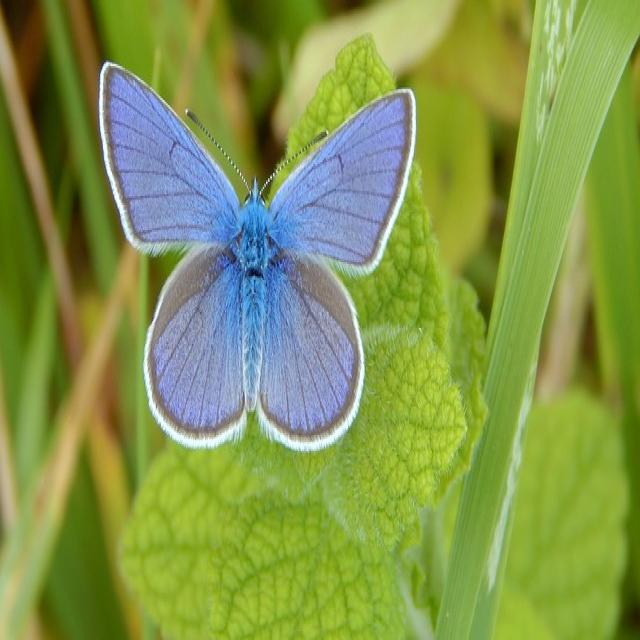butterfly: (95, 62, 418, 456)
